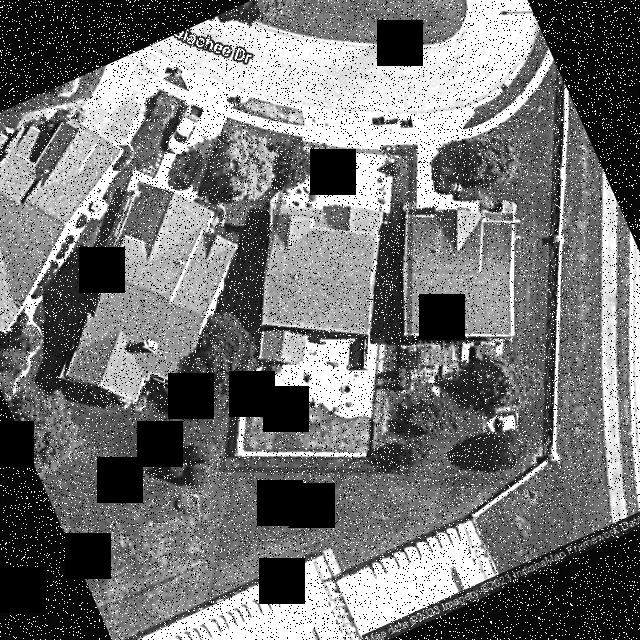Driveway: (283, 147, 396, 211)
Extra Driveway: (302, 109, 415, 150)
Extra Lawn: (294, 108, 303, 126), (393, 144, 414, 151), (291, 135, 302, 140)
Extra Sidewalk: (292, 124, 302, 136)
House: (261, 205, 382, 363)
Other: (254, 208, 390, 418)
